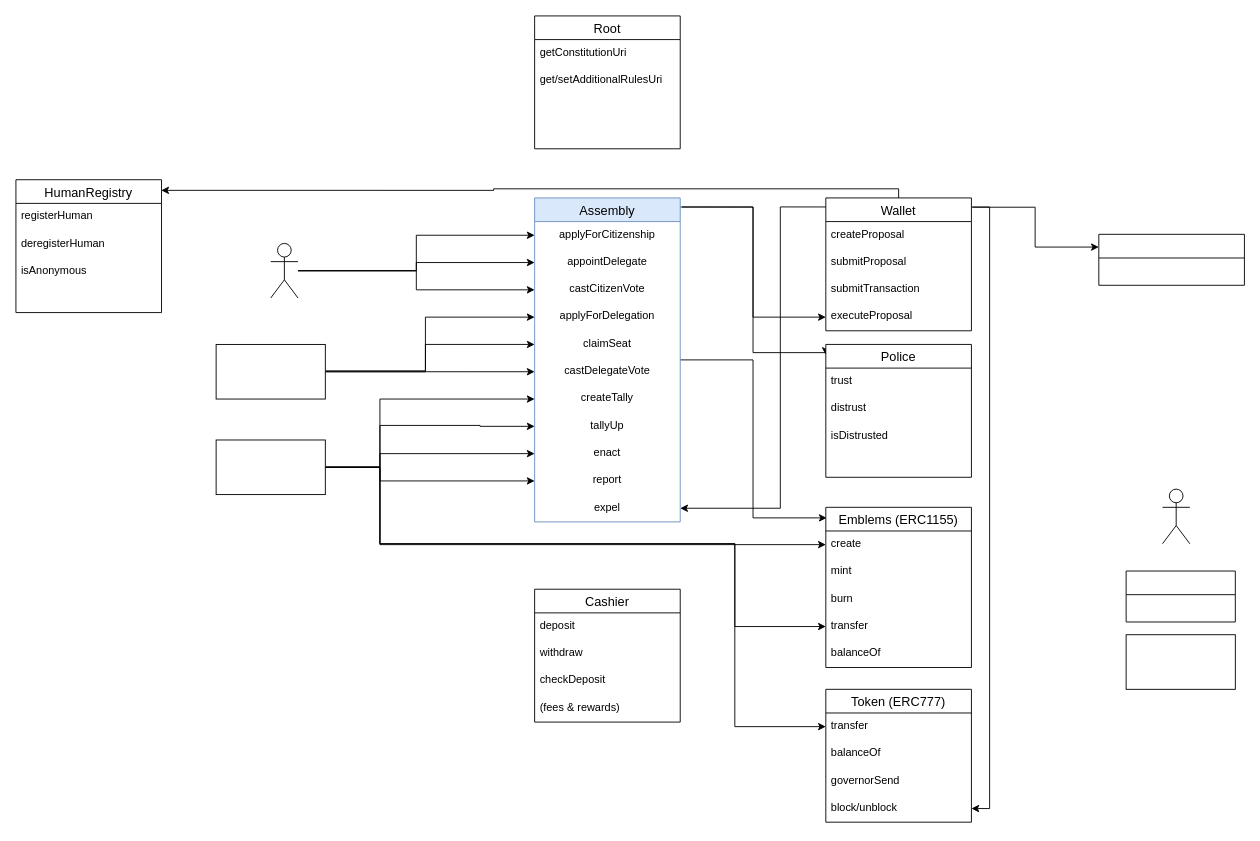
Image size: 1260x841. Some labels were removed from this diagram. The centre of each missing label's shape, as x and y in pixels:
"Any contract" goes at [1171,259].
"Anyone" goes at [270,467].
"Citizen" goes at [284,270].
"Delegate" goes at [270,371].
